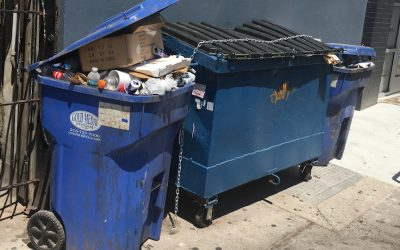Dumpster: (157, 17, 332, 220)
